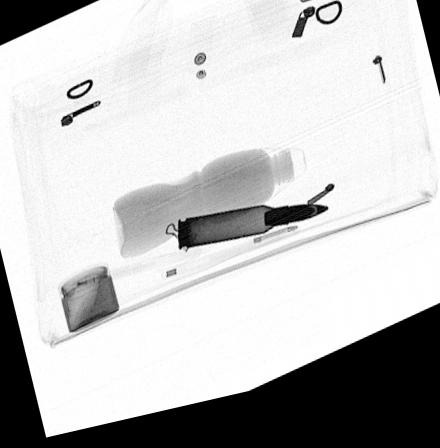Bullet: (177, 215, 331, 258)
